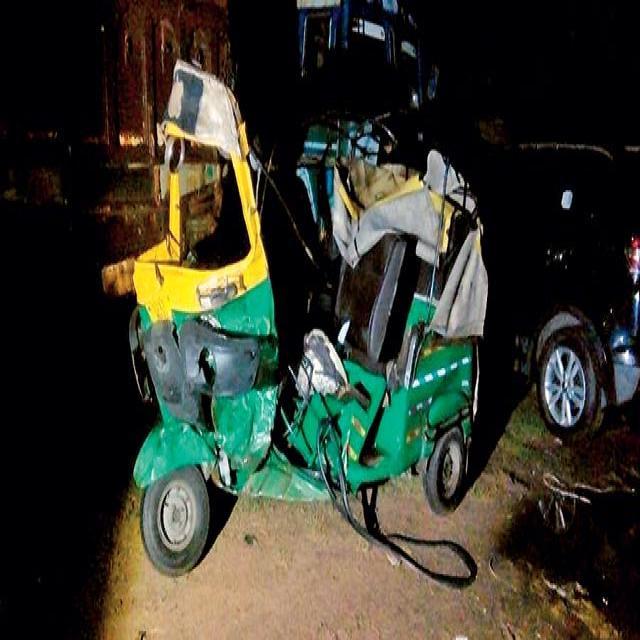accident: (129, 62, 488, 583)
